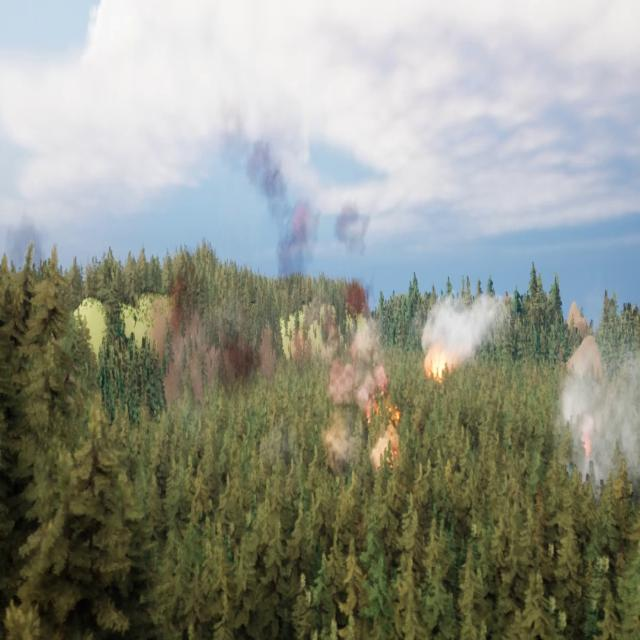fire: (362, 375, 402, 472), (425, 354, 455, 378)
smoke: (221, 116, 384, 461), (557, 351, 640, 500), (422, 298, 501, 366)
